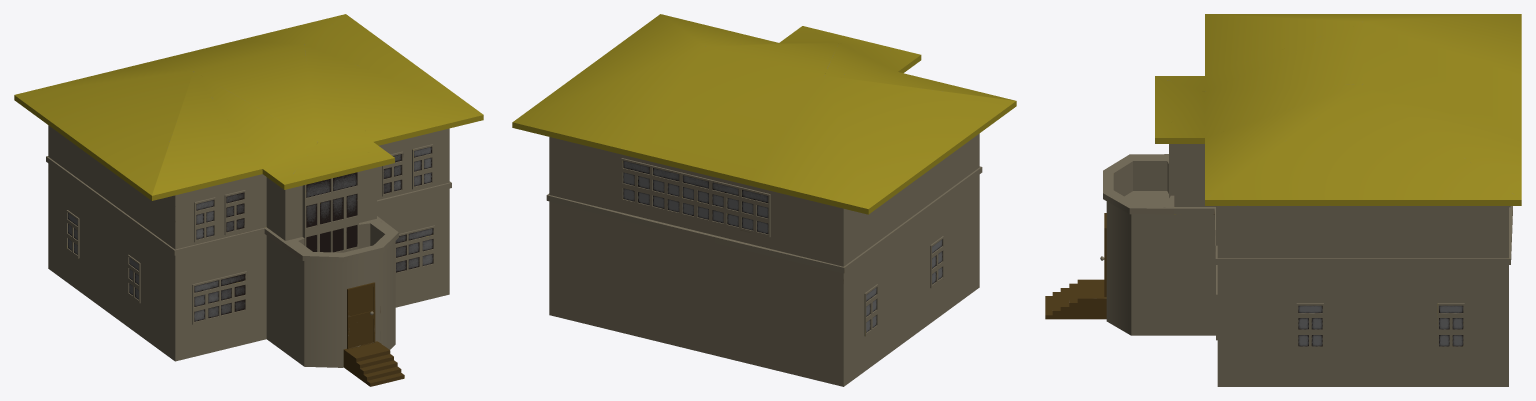
File: Building_3.fbx
The picture shows the model from 3 angles, left to right: view 1: azimuth 30°, elevation 25°; view 2: azimuth 150°, elevation 25°; view 3: azimuth 270°, elevation 25°; orthographic projection. The views are drawn at different scales.
Parts seen in each view (by area): view 1: Roof1; view 2: Roof1; view 3: Roof1.
Part boxes in pixels (x1,y1,x2,y2): Roof1: (14,14,483,386); Roof1: (512,14,1016,386); Roof1: (1045,14,1521,386).
Size of the model in its own units: 12.09 by 7.8 by 13.09.
